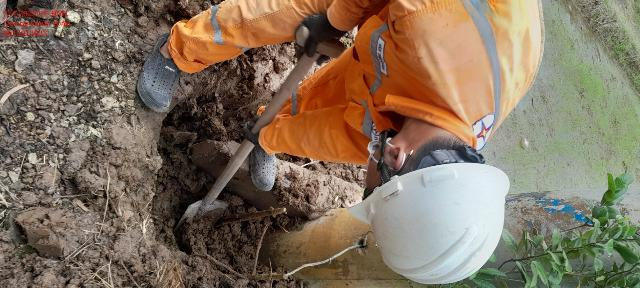gloves: (291, 8, 351, 58), (239, 110, 275, 149)
helmet: (341, 158, 519, 288)
shoes: (135, 25, 192, 123), (246, 119, 281, 194)
